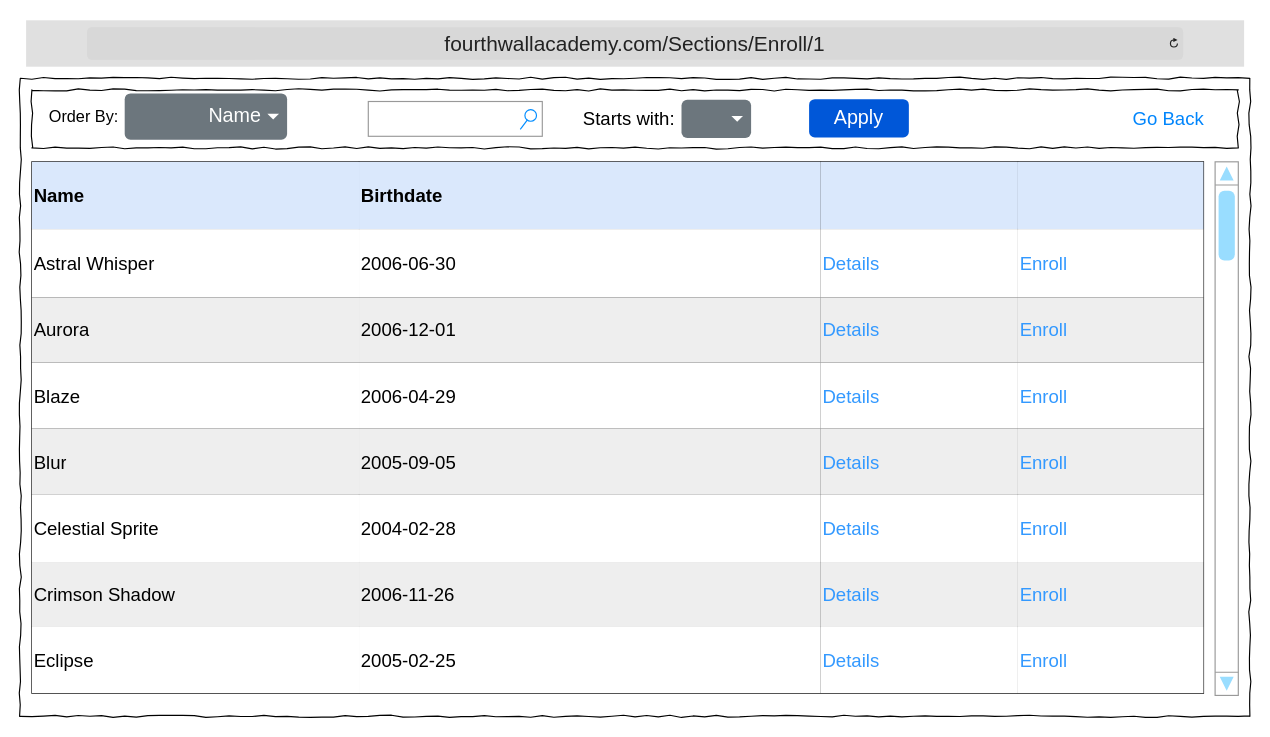
This 1270x737 diagram has some shape labels left out. The centre of each missing label's shape, as x and y in pixels:
"Any" goes at point 716,118.
"Search" goes at point 454,118.
